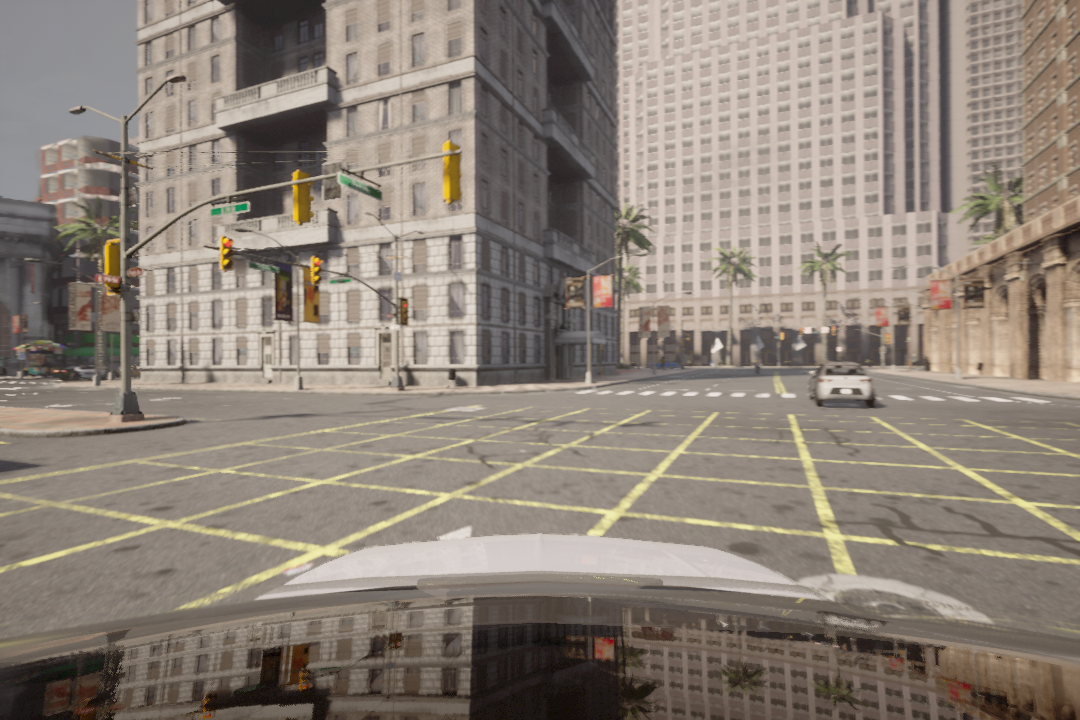TrafficLight: (220, 236, 234, 271), (311, 254, 323, 288)
walkside: (582, 383, 1054, 408)
